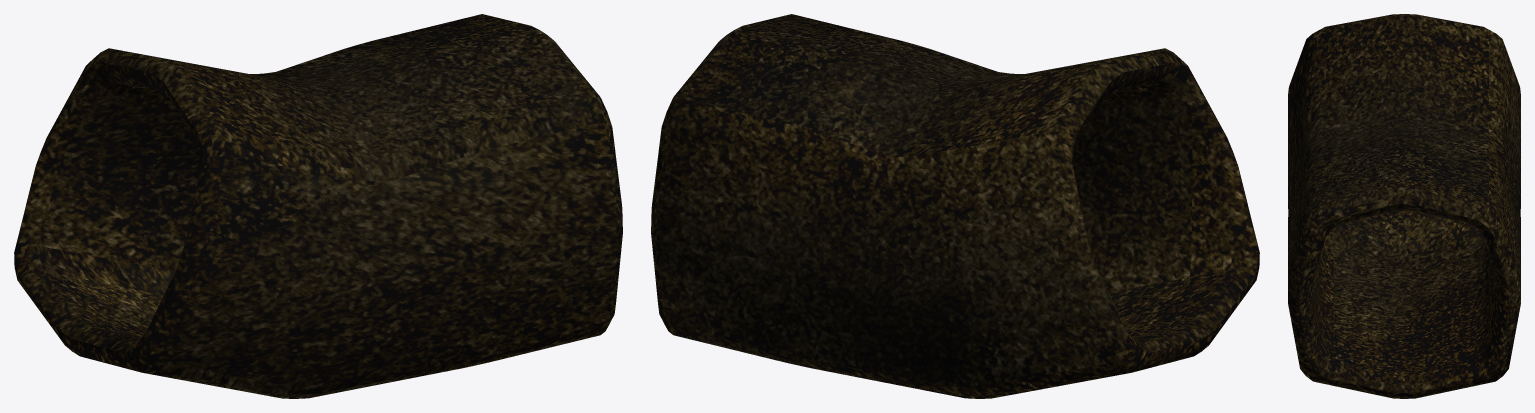
File: tunnel1.fbx
The picture shows the model from 3 angles, left to right: view 1: azimuth 30°, elevation 25°; view 2: azimuth 150°, elevation 25°; view 3: azimuth 270°, elevation 25°; orthographic projection. The views are drawn at different scales.
Visible parts, largest first — view 1: Cube; view 2: Cube; view 3: Cube.
Part boxes in pixels (<box>): Cube: <box>14,14,622,398</box>; Cube: <box>651,14,1259,398</box>; Cube: <box>1288,14,1520,398</box>.
Size of the model in its own units: 7067 by 4686 by 3937.
